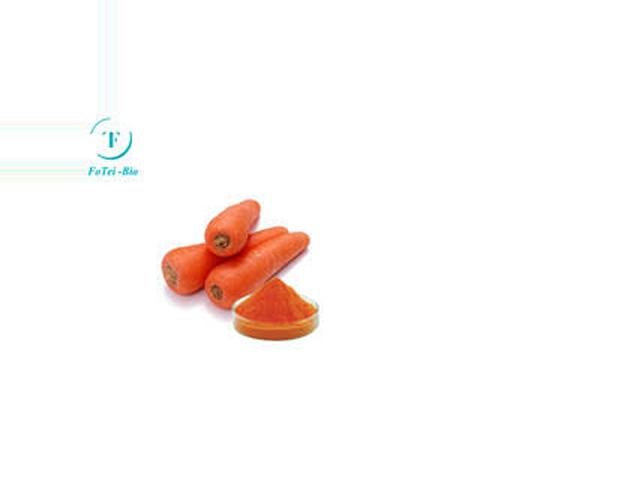carrot: (204, 224, 314, 302)
